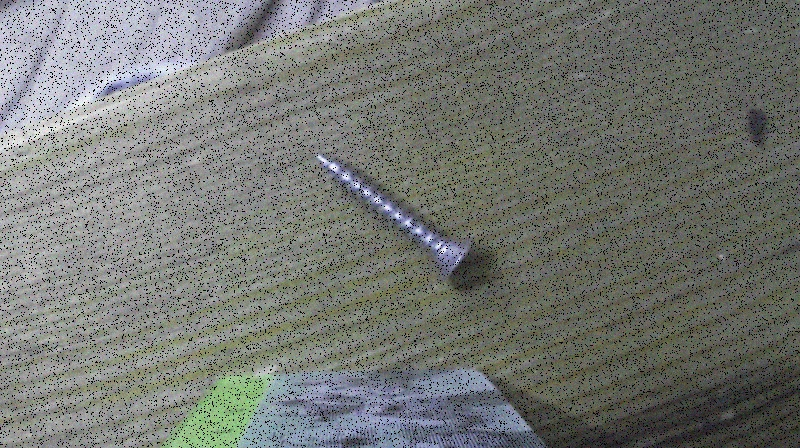S001: (311, 147, 481, 285)
